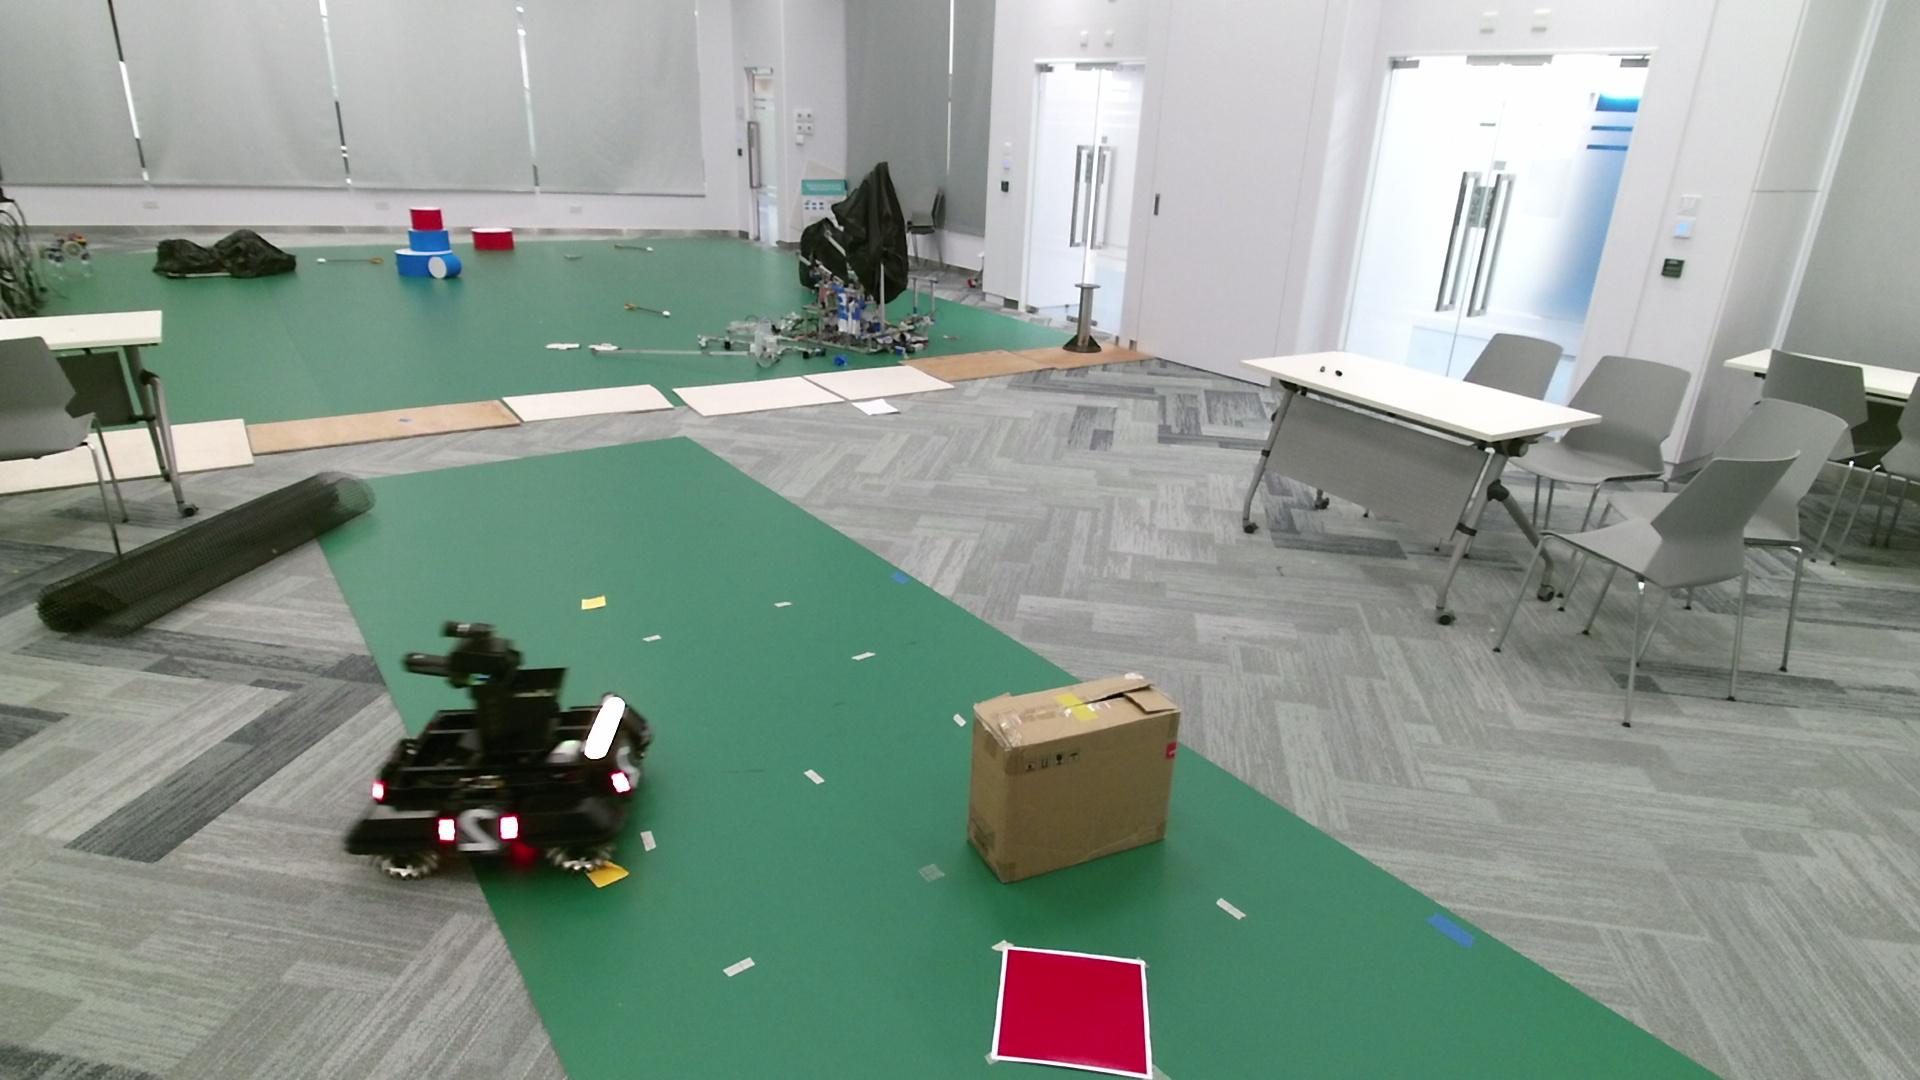robot: (343, 618, 655, 881)
